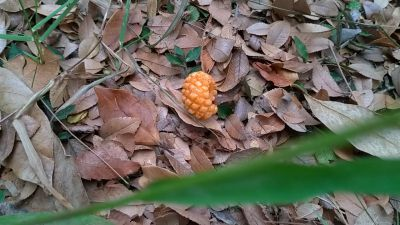eggs: (179, 69, 222, 122)
